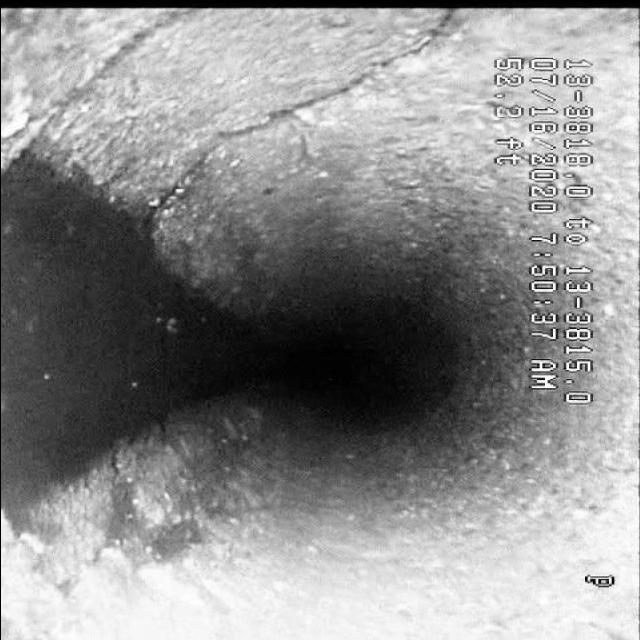Fracture: (114, 34, 478, 236)
